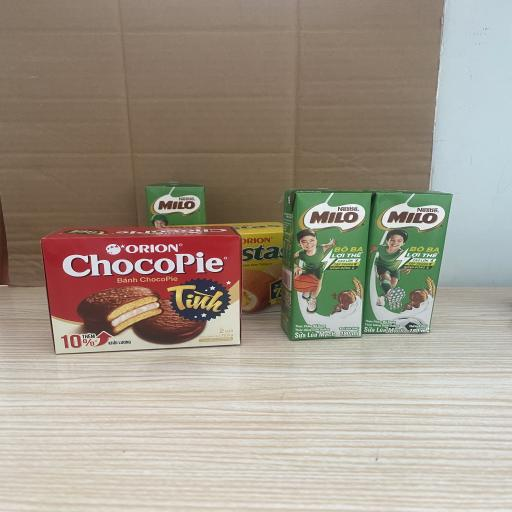chocopie: (42, 224, 243, 353)
custas: (211, 221, 283, 311)
milo: (281, 188, 371, 338), (364, 189, 451, 333), (146, 182, 208, 228)
